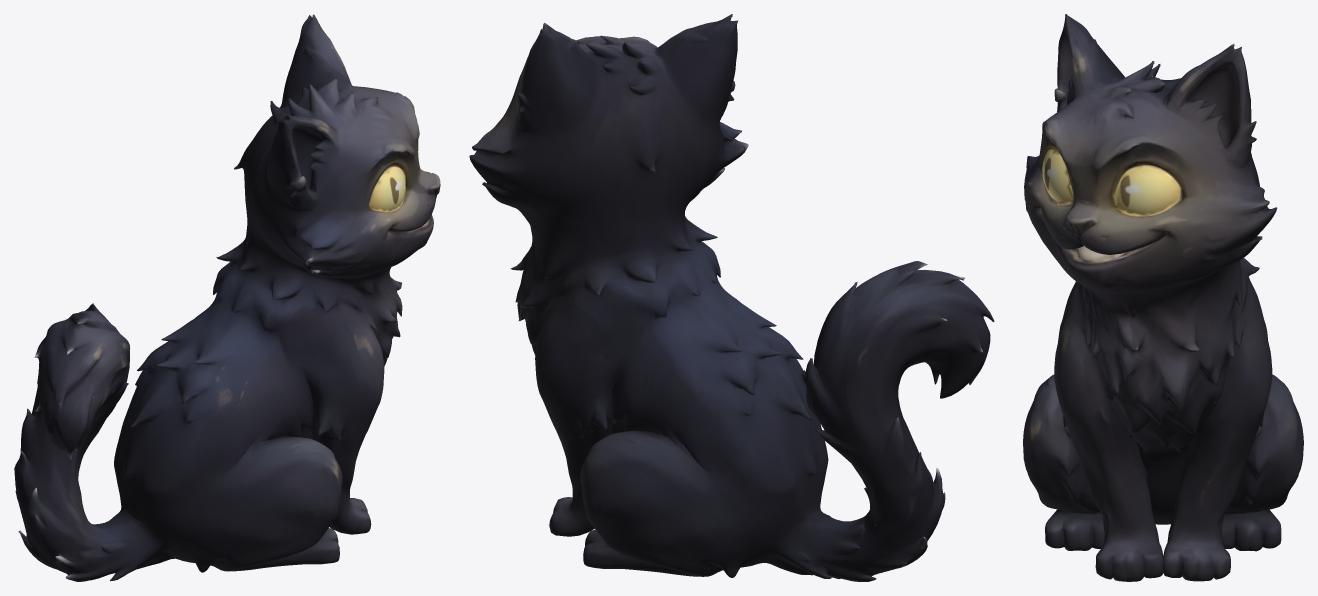
The model's file is black_cat.glb.
3 views of the same model, side by side, from view 1: azimuth 30°, elevation 25°; view 2: azimuth 150°, elevation 25°; view 3: azimuth 270°, elevation 25° (orthographic). The views are drawn at different scales.
Parts seen in each view (by area): view 1: tripo_part_1, tripo_part_0, tripo_part_2, tripo_part_3, tripo_part_5, tripo_part_8, tripo_part_9; view 2: tripo_part_1, tripo_part_2, tripo_part_0, tripo_part_4, tripo_part_6, tripo_part_9, tripo_part_7; view 3: tripo_part_0, tripo_part_1, tripo_part_5, tripo_part_6, tripo_part_4, tripo_part_3, tripo_part_7, tripo_part_8, tripo_part_9.
Part boxes in pixels (x1=…): tripo_part_1: x1=114, y1=225, x2=402, y2=562; tripo_part_0: x1=234, y1=78, x2=440, y2=278; tripo_part_2: x1=14, y1=303, x2=173, y2=581; tripo_part_3: x1=185, y1=434, x2=342, y2=572; tripo_part_5: x1=300, y1=321, x2=384, y2=534; tripo_part_8: x1=280, y1=115, x2=339, y2=210; tripo_part_9: x1=282, y1=14, x2=350, y2=102; tripo_part_1: x1=511, y1=212, x2=828, y2=566; tripo_part_2: x1=759, y1=261, x2=994, y2=581; tripo_part_0: x1=469, y1=14, x2=748, y2=226; tripo_part_4: x1=579, y1=430, x2=747, y2=577; tripo_part_6: x1=535, y1=301, x2=622, y2=536; tripo_part_9: x1=530, y1=22, x2=599, y2=136; tripo_part_7: x1=517, y1=25, x2=543, y2=133; tripo_part_0: x1=1024, y1=14, x2=1277, y2=294; tripo_part_1: x1=1066, y1=258, x2=1259, y2=461; tripo_part_5: x1=1054, y1=301, x2=1163, y2=581; tripo_part_6: x1=1163, y1=296, x2=1272, y2=581; tripo_part_4: x1=1140, y1=374, x2=1303, y2=551; tripo_part_3: x1=1023, y1=374, x2=1104, y2=550; tripo_part_7: x1=1166, y1=45, x2=1256, y2=168; tripo_part_8: x1=1054, y1=14, x2=1086, y2=111; tripo_part_9: x1=1165, y1=44, x2=1243, y2=105.
Size of the model in its own units: 0.8845 by 0.9816 by 0.4647.
1 material, 1 textured.
